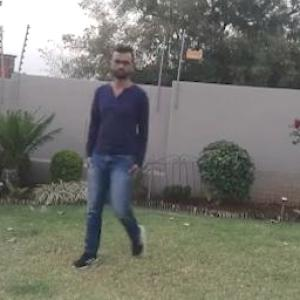follow: (91, 41, 170, 268)
